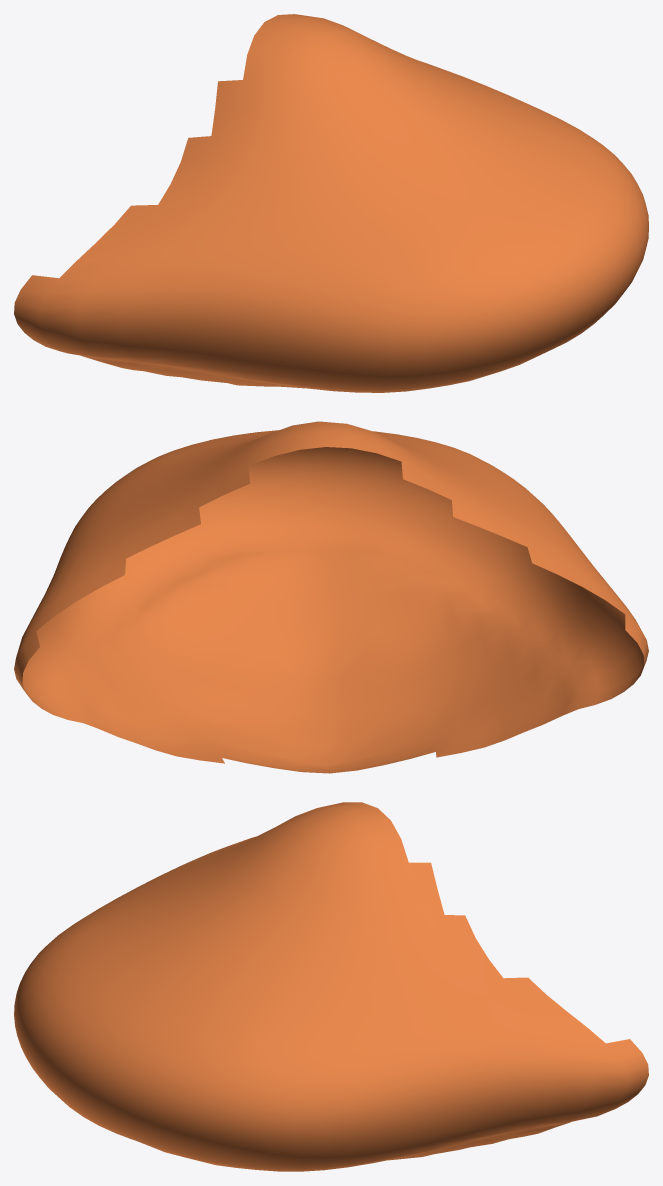
The model's file is duck_beak.gltf.
3 views of the same model, one above another, from view 1: azimuth 30°, elevation 25°; view 2: azimuth 150°, elevation 25°; view 3: azimuth 270°, elevation 25° (orthographic). The views are drawn at different scales.
Parts seen in each view (by area): view 1: duck_beak; view 2: duck_beak; view 3: duck_beak.
Boxes of the visible parts, bbox=[...] form: duck_beak: bbox=[14, 14, 648, 392]; duck_beak: bbox=[14, 421, 648, 773]; duck_beak: bbox=[14, 802, 648, 1171].
Size of the model in its own units: 5 by 2.74 by 4.83.
